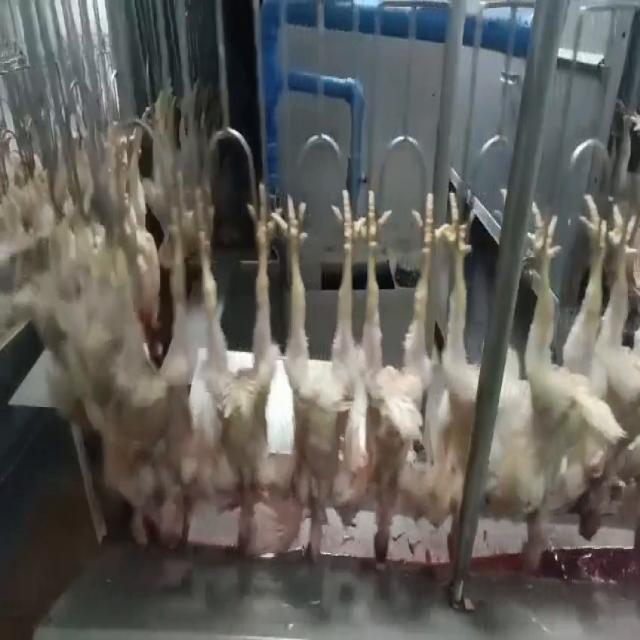chicken: (98, 186, 188, 549), (273, 186, 359, 551), (187, 186, 271, 557), (492, 200, 574, 580), (394, 193, 482, 532), (558, 185, 640, 544), (351, 191, 403, 616)
